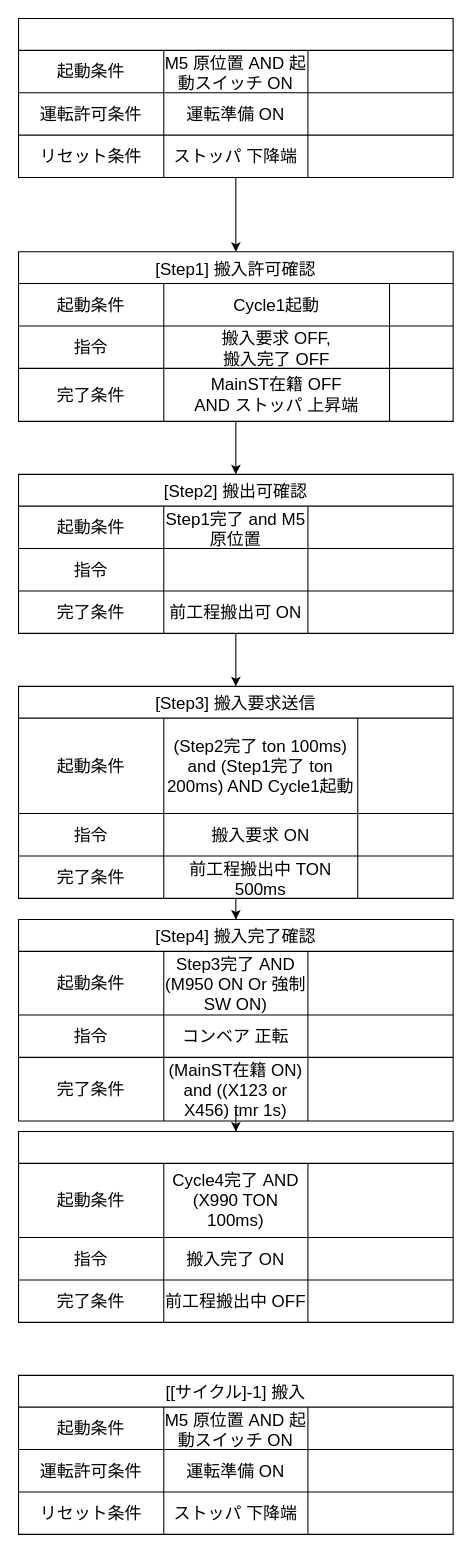
This 472x1553 diagram has some shape labels left out. Here are the shapes that lost their labels. From the top down, the box of each, then its label:
(17, 17, 453, 178): [Cycle1] 搬入
(17, 1130, 453, 1322): [Step5] 搬入完了送信
